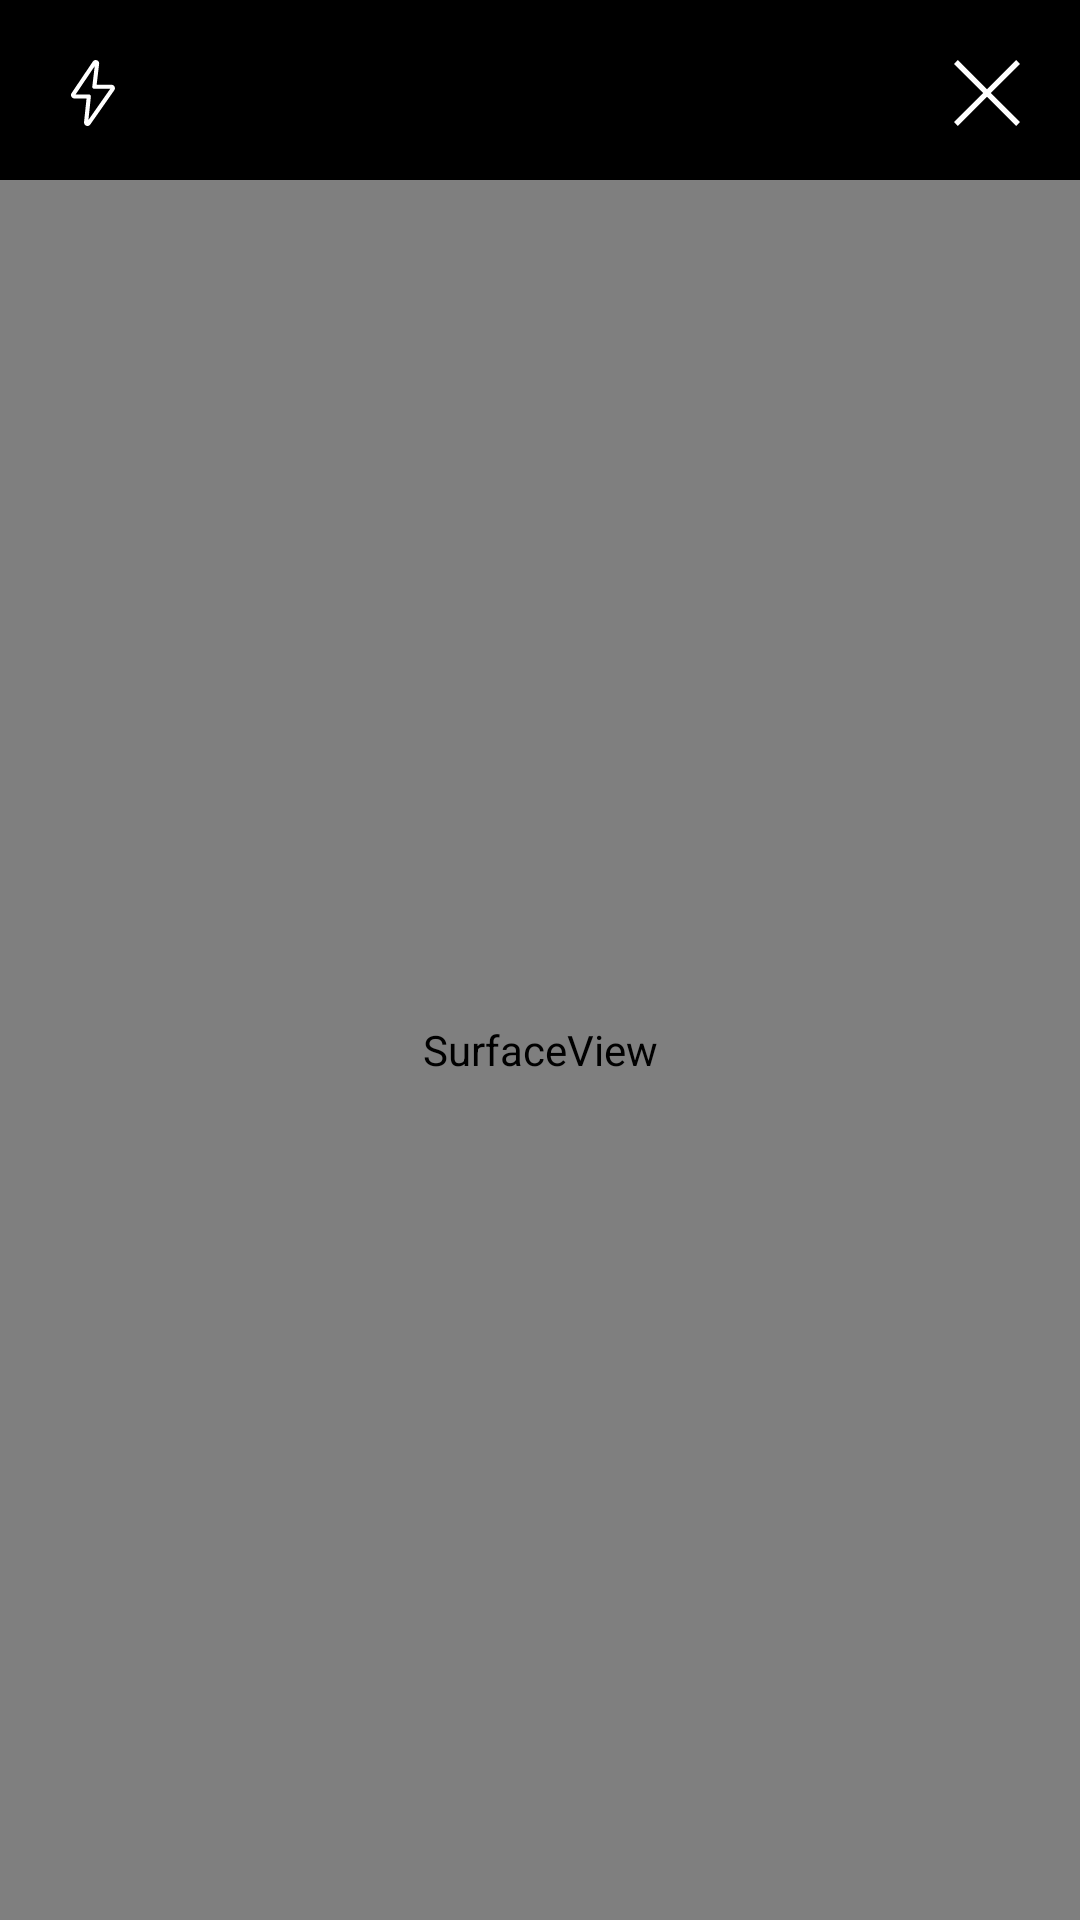

Point at icon controls on the screen. Image size 1080 × 1920, points as (x,y).
Вспышка: (93,93)
